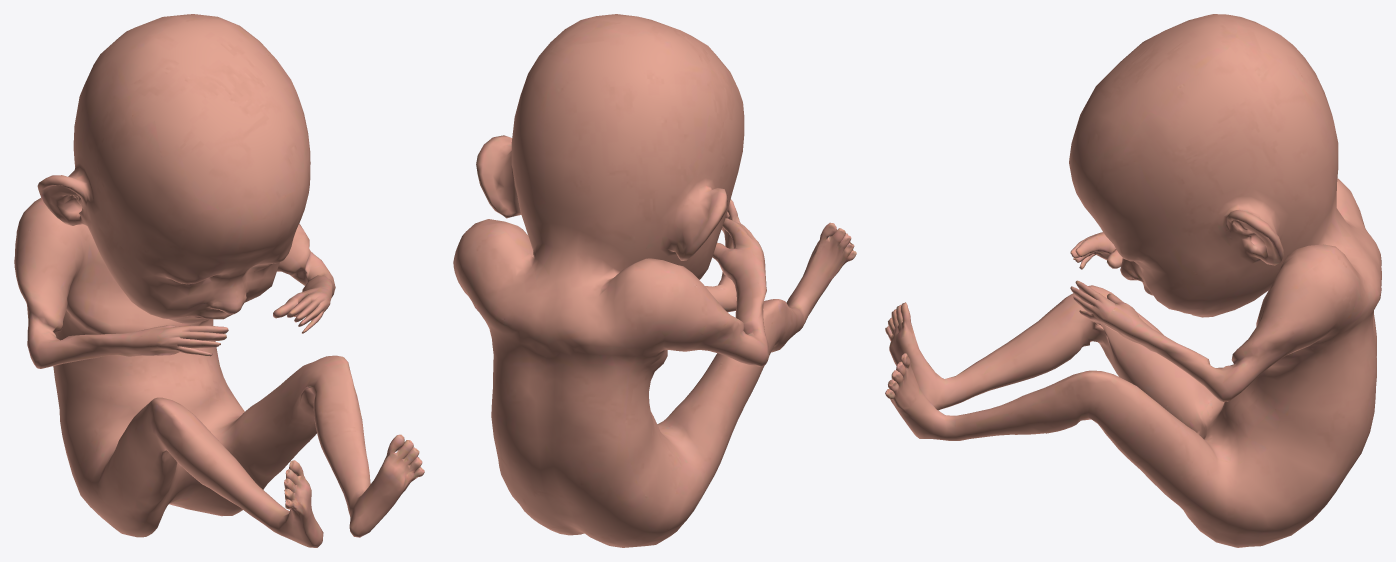
3 renders of one model, left to right at view 1: azimuth 30°, elevation 25°; view 2: azimuth 150°, elevation 25°; view 3: azimuth 270°, elevation 25°, orthographic.
Parts seen in each view (by area): view 1: Baby; view 2: Baby; view 3: Baby.
Boxes of the visible parts, bbox=[...] form: Baby: bbox=[14, 14, 424, 547]; Baby: bbox=[453, 14, 856, 547]; Baby: bbox=[885, 14, 1381, 547].
Size of the model in its own units: 0.1107 by 0.1783 by 0.1603.
Materials: 1 (1 with a texture image).
